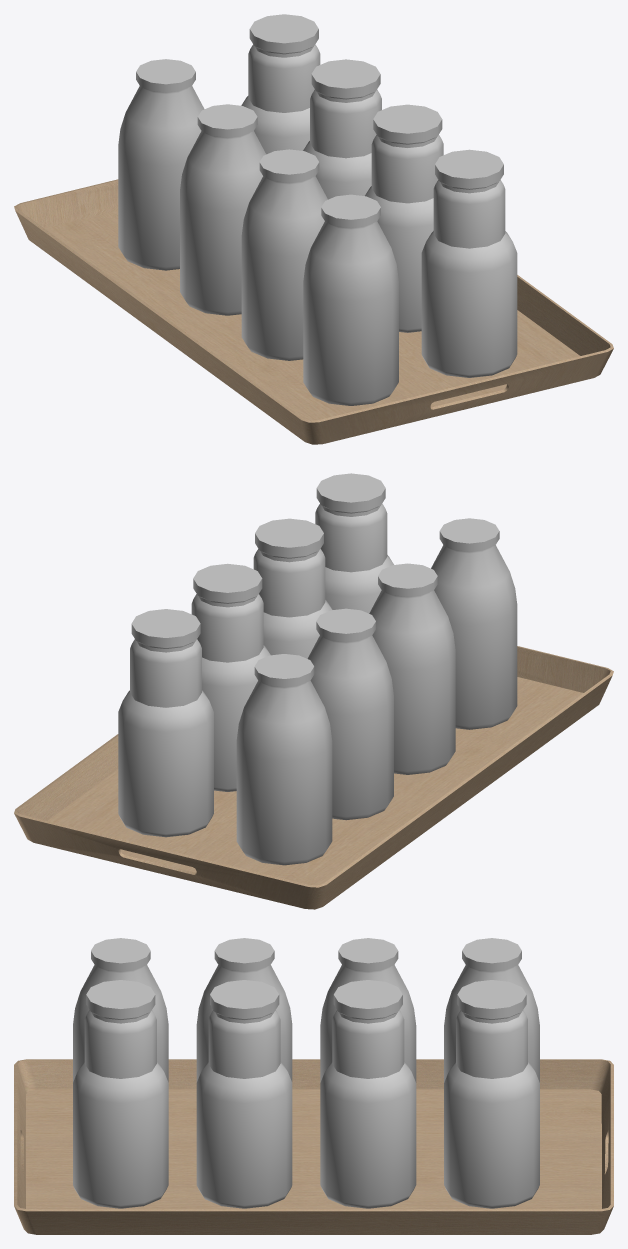
The model's file is D_Cafe_Food_003.fbx.
3 views of the same model, one above another, from view 1: azimuth 30°, elevation 25°; view 2: azimuth 150°, elevation 25°; view 3: azimuth 270°, elevation 25° (orthographic).
Parts seen in each view (by area): view 1: D_Cafe_Food_003_glass, D_Cafe_Food_003; view 2: D_Cafe_Food_003_glass, D_Cafe_Food_003; view 3: D_Cafe_Food_003_glass, D_Cafe_Food_003.
Part boxes in pixels (x1,y1,x2,y2): D_Cafe_Food_003_glass: [118, 44, 517, 405]; D_Cafe_Food_003: [14, 14, 613, 444]; D_Cafe_Food_003_glass: [118, 503, 517, 865]; D_Cafe_Food_003: [14, 473, 613, 909]; D_Cafe_Food_003_glass: [73, 965, 539, 1208]; D_Cafe_Food_003: [14, 938, 613, 1234].
Size of the model in its own units: 0.2972 by 0.1798 by 0.4951.
